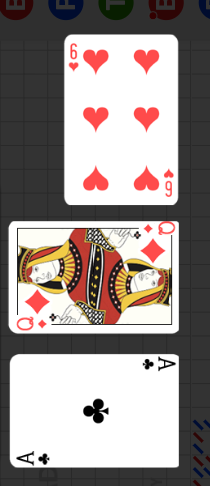6H: (162, 167, 175, 198), (68, 42, 81, 73)
AC: (139, 356, 177, 373)
QD: (132, 234, 179, 278), (12, 301, 58, 345)
